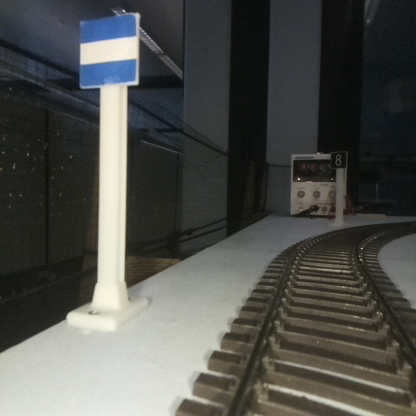black-info-8: (331, 151, 346, 226)
start: (80, 16, 136, 327)
